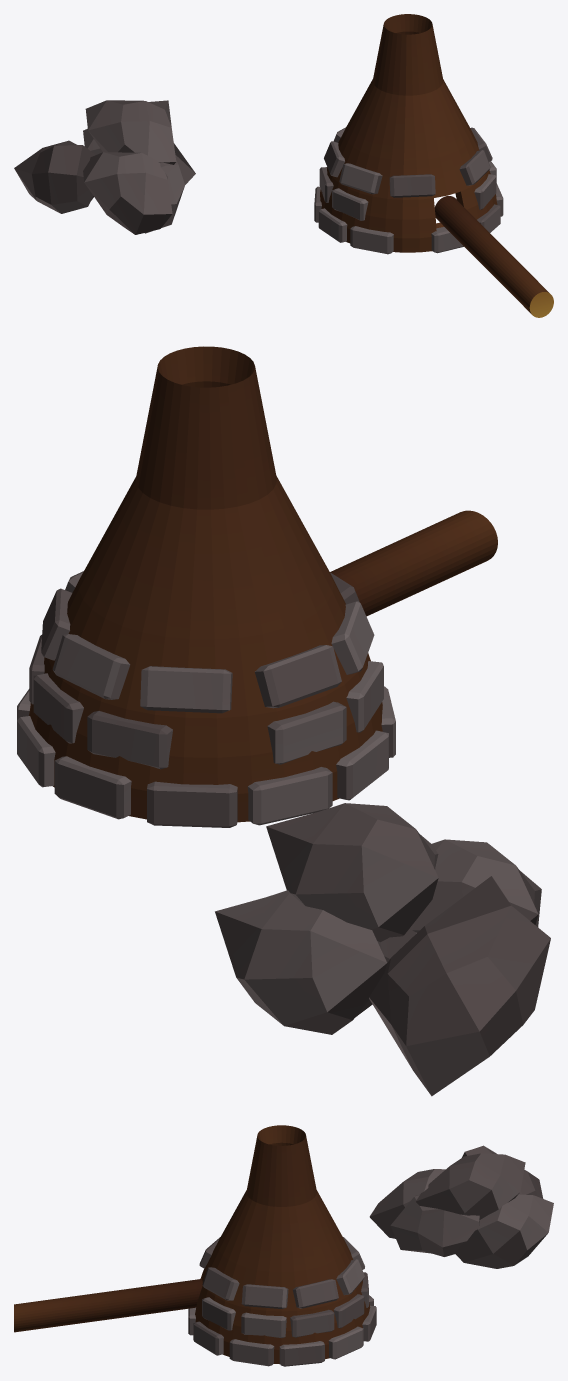
Rendered from Bloomery .glb.
3 renders of one model, top to bottom at view 1: azimuth 30°, elevation 25°; view 2: azimuth 150°, elevation 25°; view 3: azimuth 270°, elevation 25°, orthographic. The views are drawn at different scales.
Visible parts, largest first — view 1: Cube.015, Circle, Circle.001; view 2: Cube.015, Circle, Circle.001; view 3: Cube.015, Circle, Circle.001.
Boxes of the visible parts, x1=… form: Cube.015: x1=14, y1=100, x2=503, y2=254; Circle: x1=320, y1=14, x2=497, y2=252; Circle.001: x1=434, y1=196, x2=553, y2=317; Cube.015: x1=17, y1=571, x2=550, y2=1096; Circle: x1=29, y1=346, x2=382, y2=822; Circle.001: x1=330, y1=510, x2=497, y2=616; Cube.015: x1=188, y1=1145, x2=553, y2=1366; Circle: x1=195, y1=1125, x2=370, y2=1364; Circle.001: x1=14, y1=1279, x2=202, y2=1332.
Size of the model in its own units: 4.5 by 2.63 by 6.03.
1 material, 1 textured.
